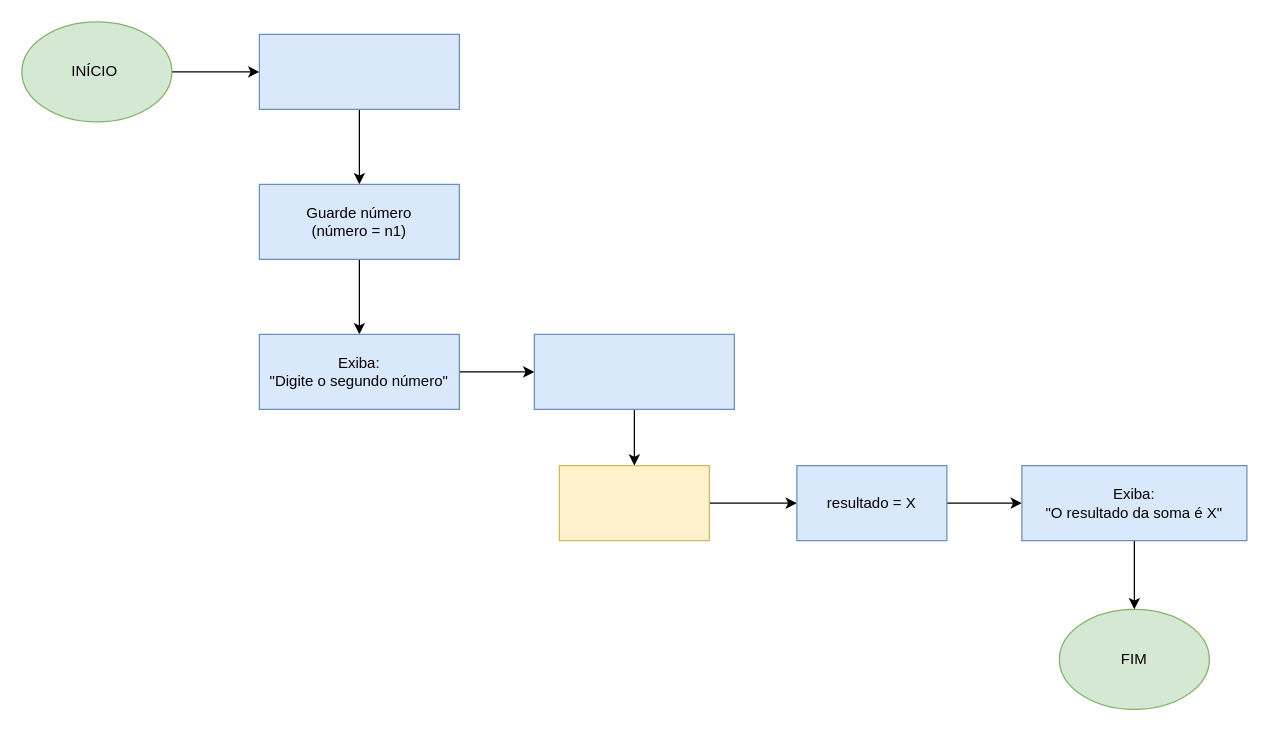
This 1269x731 diagram has some shape labels left out. Here are the shapes that lost their labels. From the top down, the centre of each, then its label:
the point at 358,71: Exiba: "Digite o primeiro número"
the point at 633,371: Guarde número (número = n2)
the point at 633,502: n1 + n2 = X
